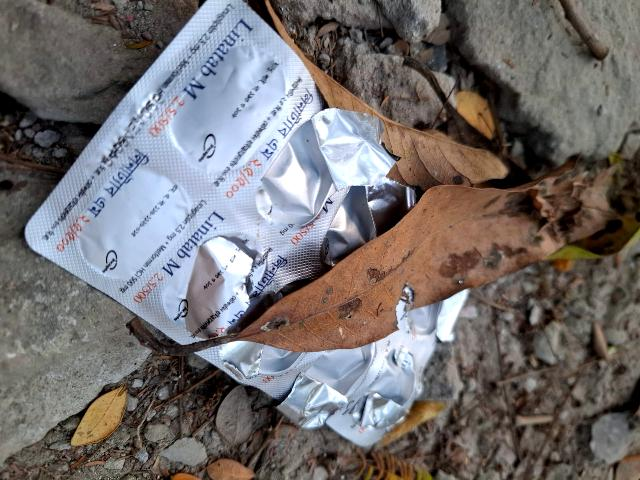medicine: (16, 0, 554, 480)
